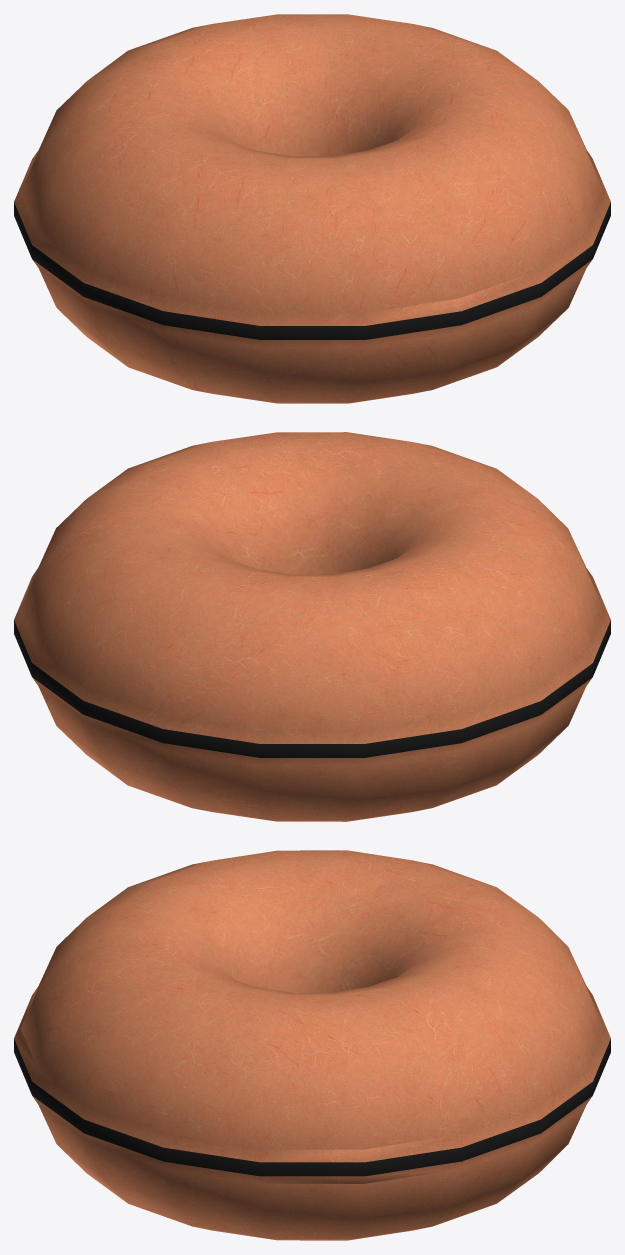
File: YGB0110055.fbx
The picture shows the model from 3 angles, top to bottom: view 1: azimuth 30°, elevation 25°; view 2: azimuth 150°, elevation 25°; view 3: azimuth 270°, elevation 25°; orthographic projection.
Visible parts, largest first — view 1: smYGB0110055; view 2: smYGB0110055; view 3: smYGB0110055.
Boxes of the visible parts, x1,y1,x2,y2 form: smYGB0110055: [14, 14, 610, 403]; smYGB0110055: [14, 432, 610, 821]; smYGB0110055: [14, 850, 610, 1240].
Size of the model in its own units: 91 by 39.11 by 92.44.
1 material, 1 textured.
